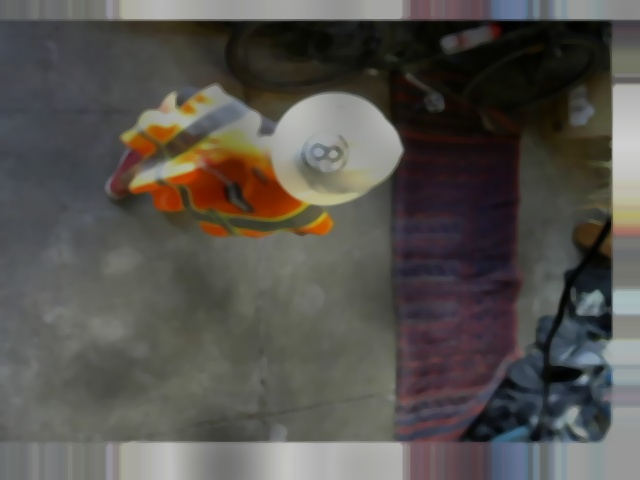eight: (302, 133, 345, 175)
